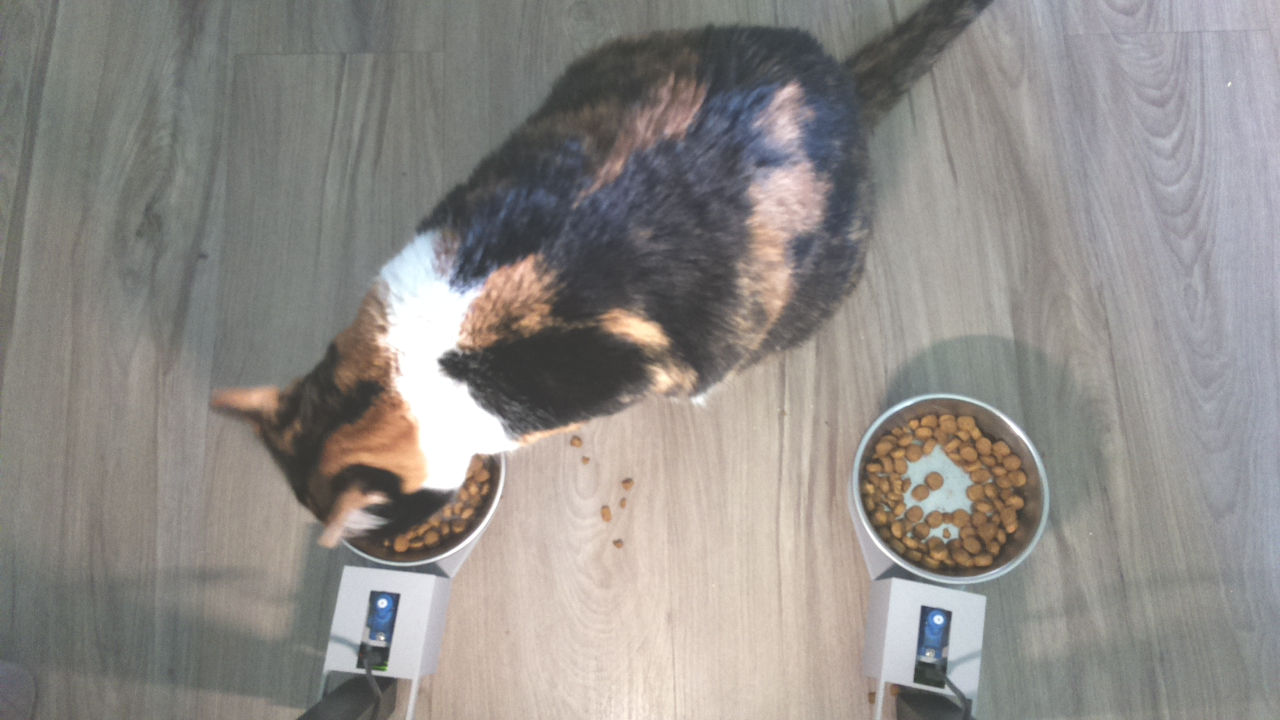bella_eating: (209, 271, 520, 565)
open_bowl: (849, 392, 1054, 591)
